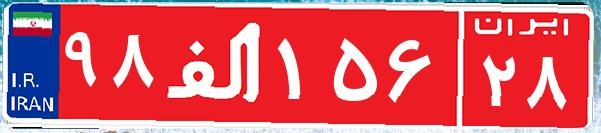1: (273, 28, 330, 110)
2: (475, 38, 525, 113)
5: (330, 28, 385, 110)
6: (385, 28, 445, 110)
8: (110, 28, 158, 105), (525, 38, 570, 115)
9: (57, 26, 110, 107)
الف: (158, 15, 273, 115)
